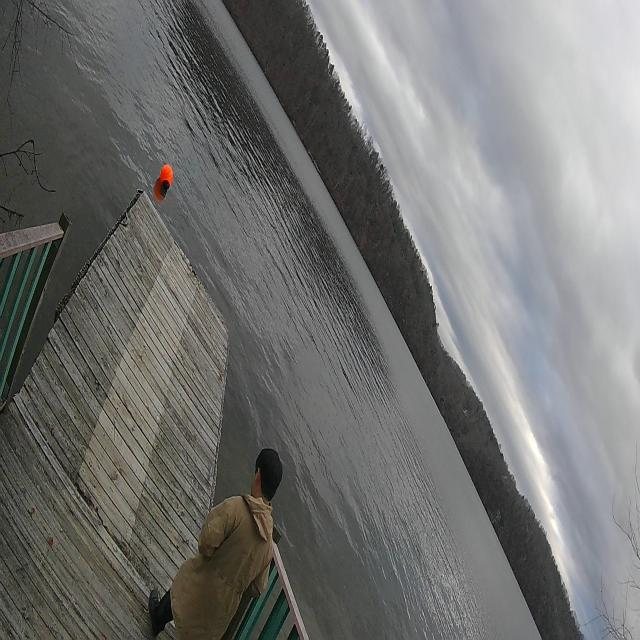Buoy: (155, 154, 176, 202)
